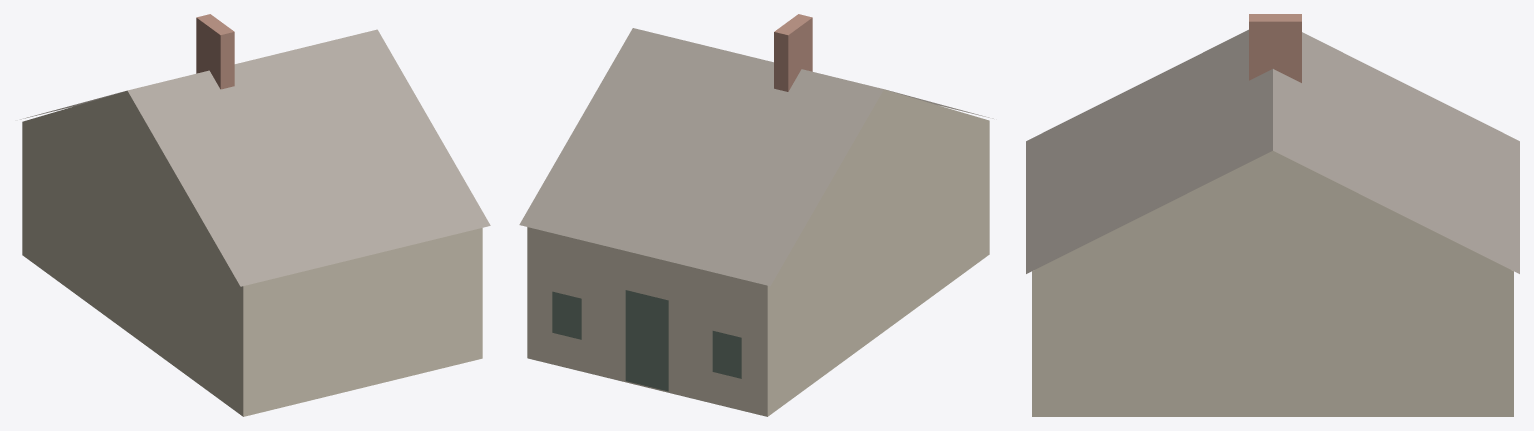
The model's file is recon_1835_north_c2_027__recommended_1835.glb.
The picture shows the model from 3 angles, left to right: view 1: azimuth 30°, elevation 25°; view 2: azimuth 150°, elevation 25°; view 3: azimuth 270°, elevation 25°; orthographic projection. The views are drawn at different scales.
Parts seen in each view (by area): view 1: recon_1835_north_c2_027__recommended_1835; view 2: recon_1835_north_c2_027__recommended_1835; view 3: recon_1835_north_c2_027__recommended_1835.
Part boxes in pixels (x1=…): recon_1835_north_c2_027__recommended_1835: x1=20, y1=14, x2=490, y2=416; recon_1835_north_c2_027__recommended_1835: x1=519, y1=14, x2=993, y2=416; recon_1835_north_c2_027__recommended_1835: x1=1026, y1=14, x2=1519, y2=416.
Size of the model in its own units: 6.38 by 7.07 by 9.99.
